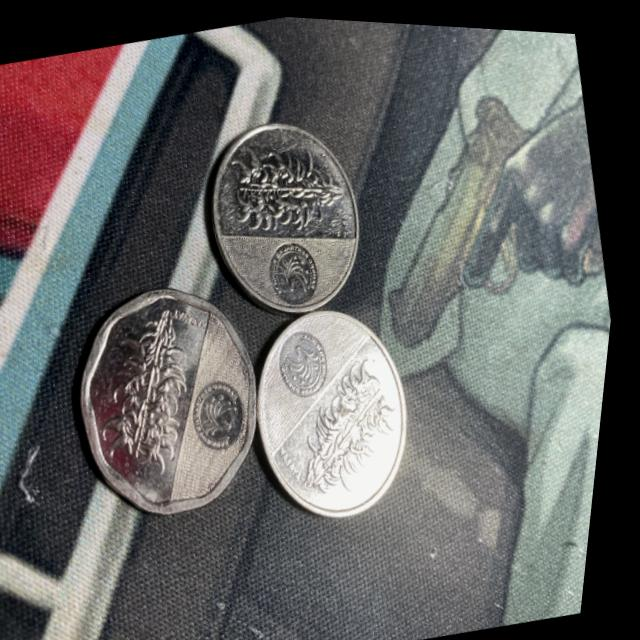5_New_Back: (89, 295, 220, 483), (290, 362, 427, 511), (222, 123, 361, 245)
